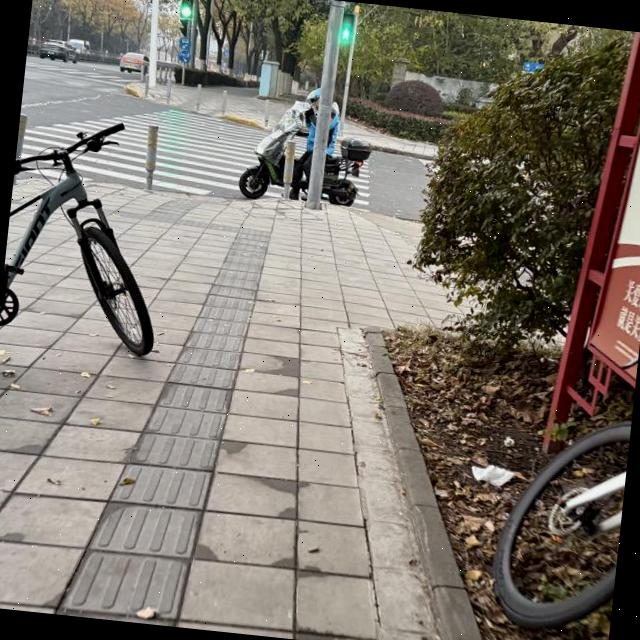curb: (363, 328, 480, 640), (370, 142, 432, 163), (218, 114, 269, 130), (126, 82, 140, 96)
